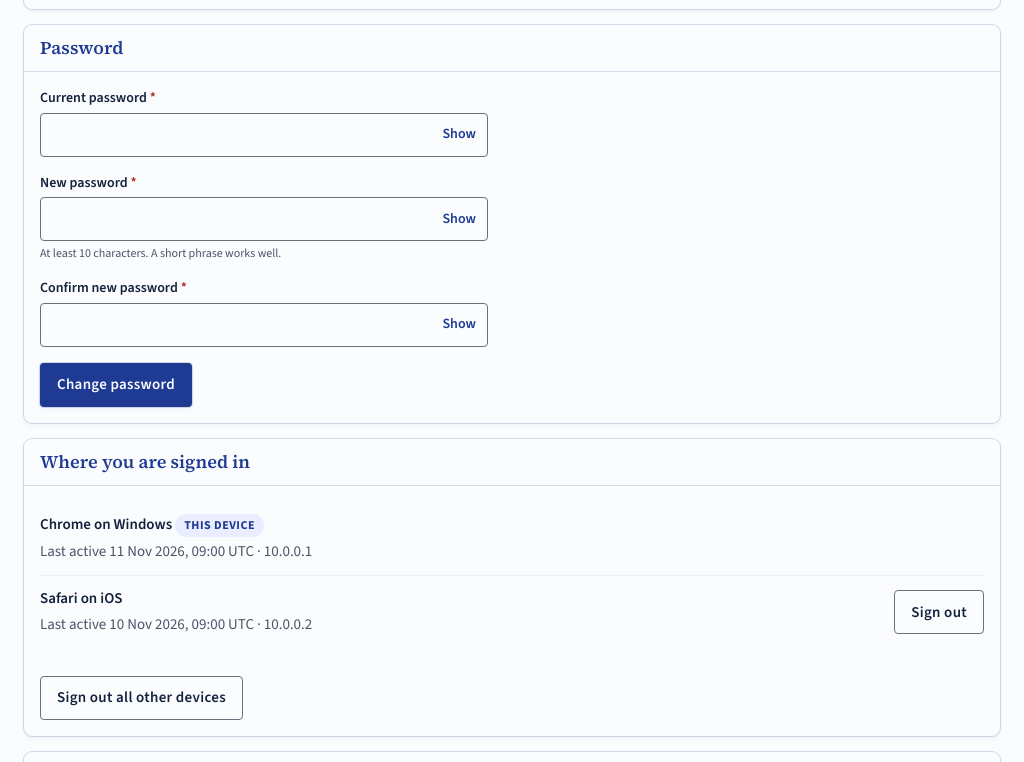
Scenario: AccountSettings › checks the password form before sending anything
(page scrolled)
Step 1. Click the button "Change password" → point(116, 384), box [40,362,192,406]
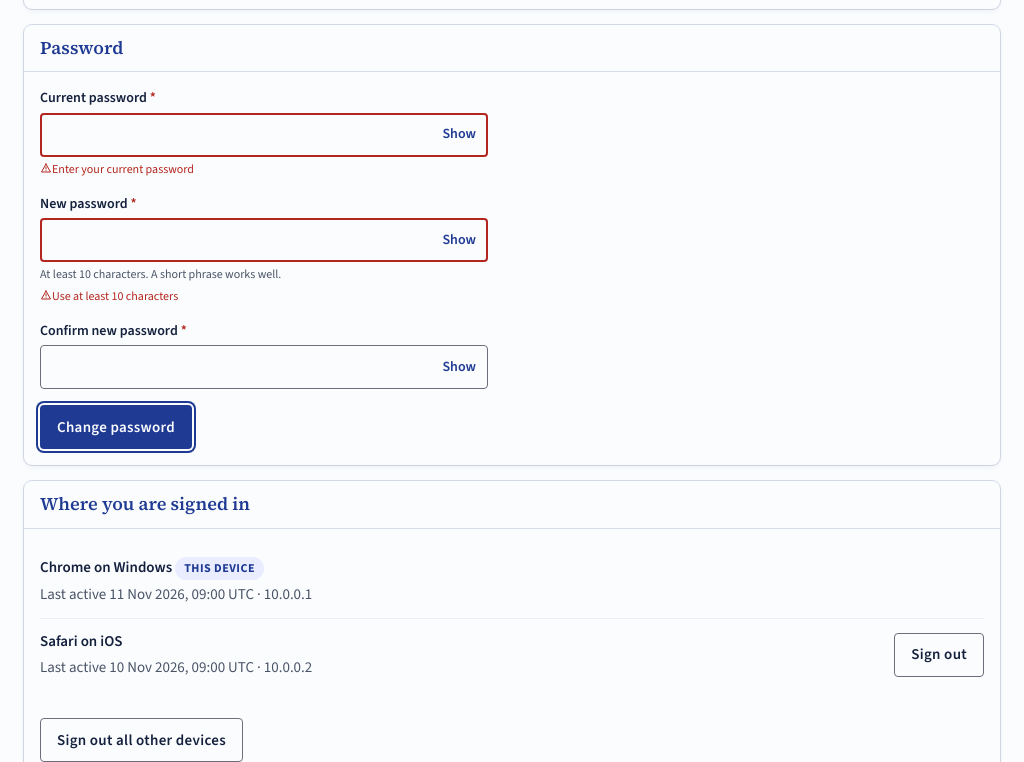
Expected: the text "Enter your current password" is shown, [40,160,194,176]
Step 2. Type "old passphrase 1" into the password field labelled "Current password *" → point(264, 134), box [40,112,488,156]
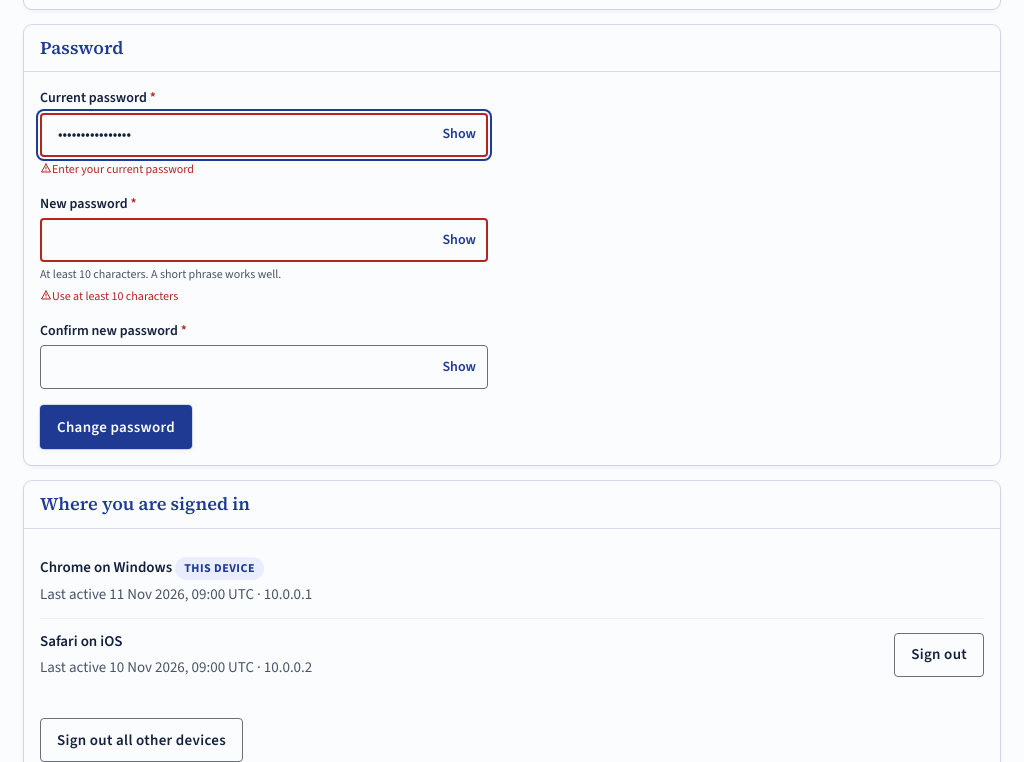
Step 3. Type "short" into the password field labelled "New password *" → point(264, 240), box [40,218,488,262]
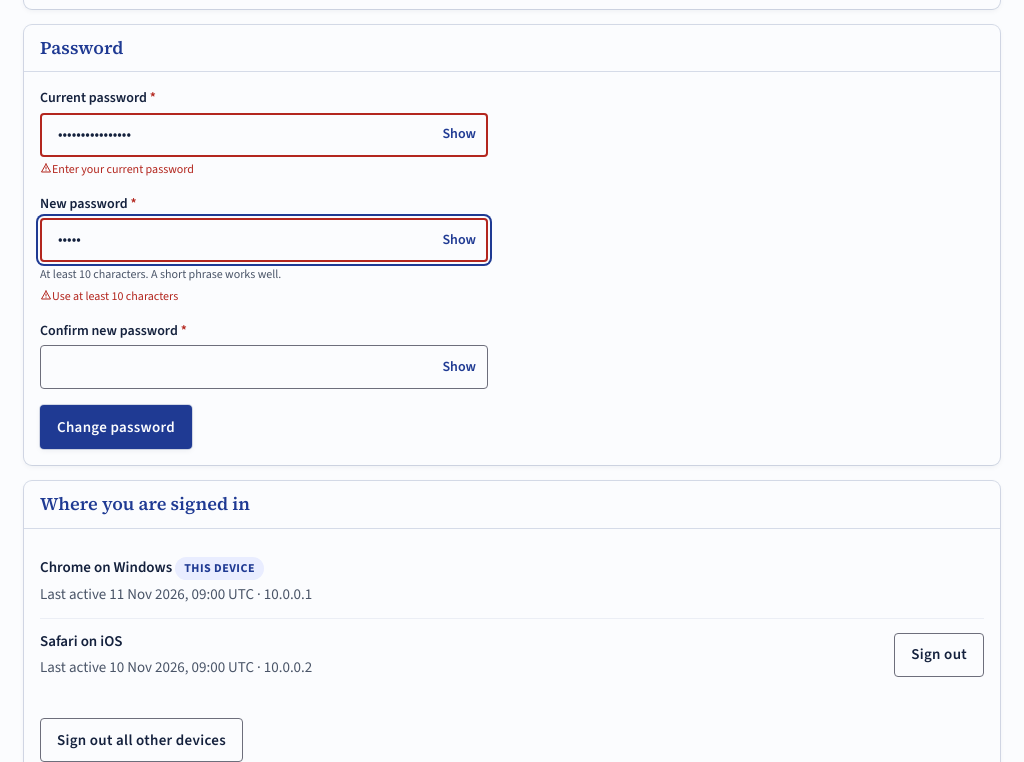
Step 4. Type "different" into the password field labelled "Confirm new password *" → point(264, 367), box [40,345,488,389]
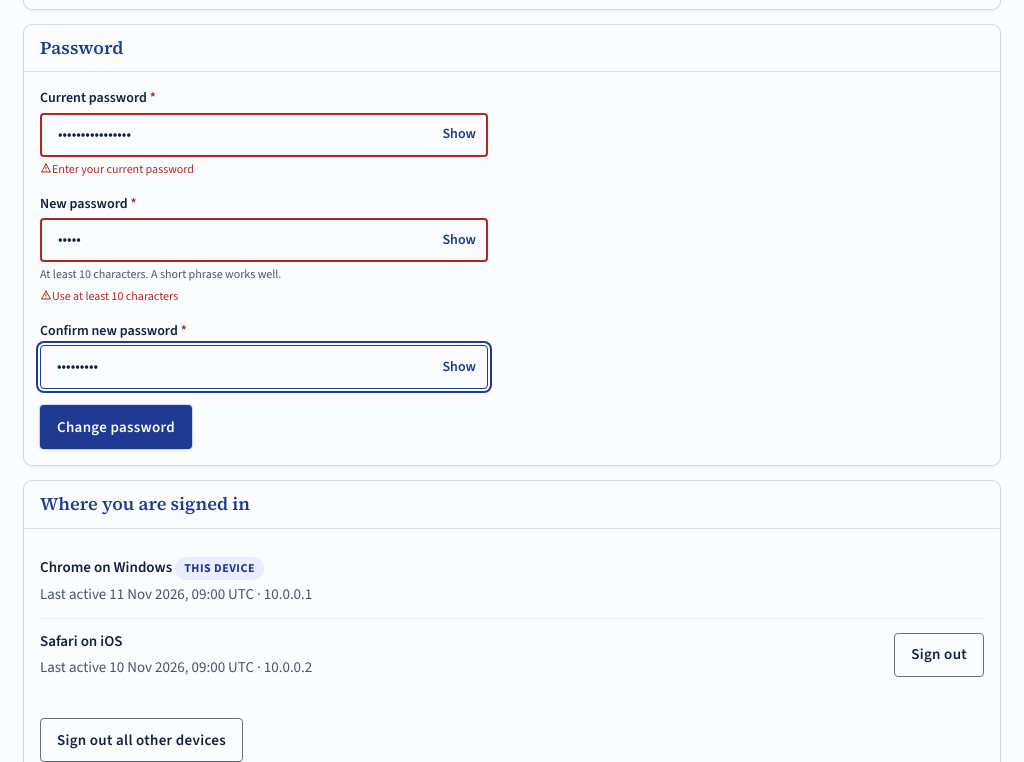
Step 5. Click the button "Change password" → point(116, 427), box [40,405,192,449]
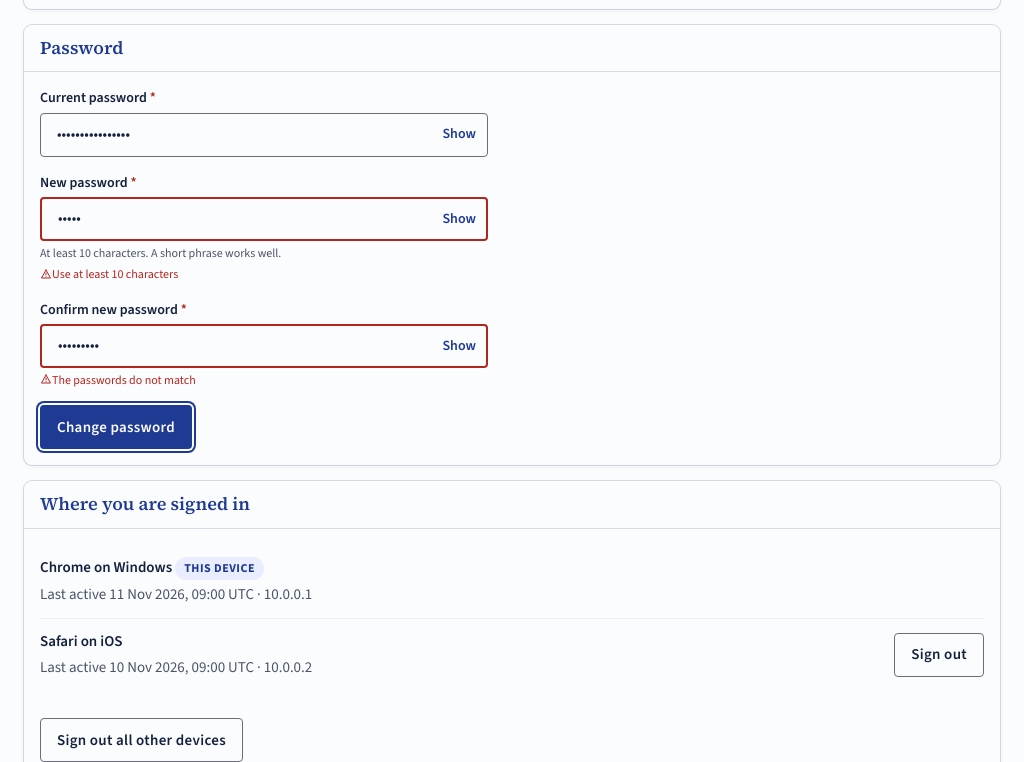
Expected: the text "Use at least 10 characters" is shown, [40,266,178,282]
Expected: the text "The passwords do not match" is shown, [40,372,196,388]
